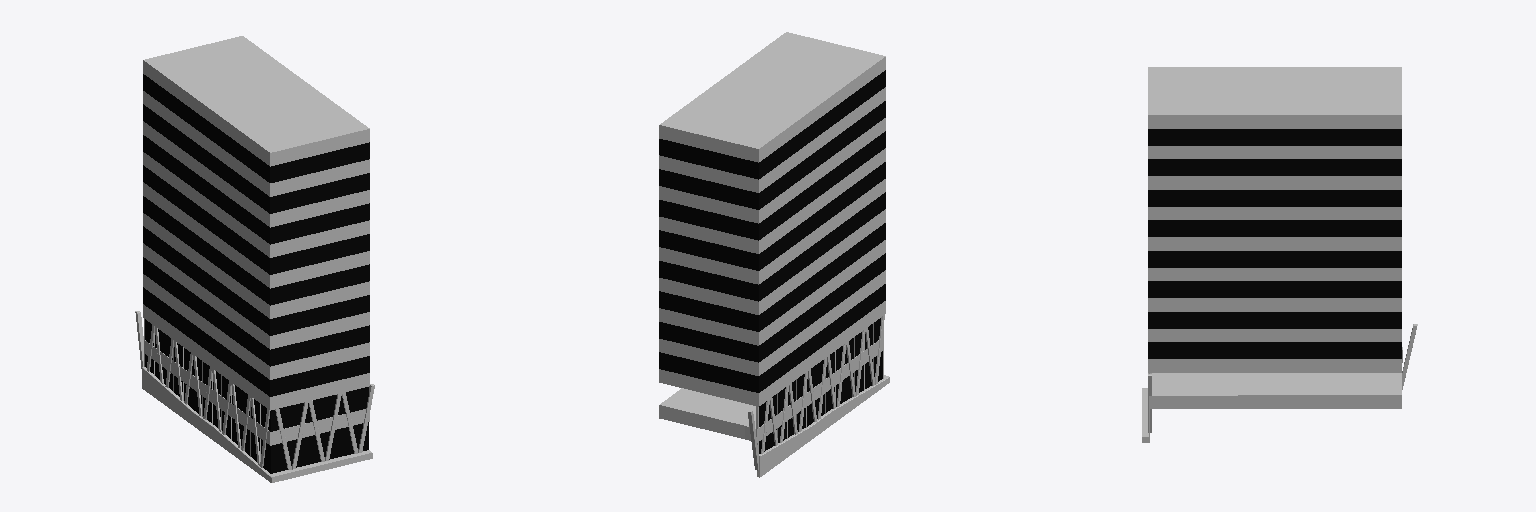
The model's file is building.obj.
3 views of the same model, side by side, from view 1: azimuth 30°, elevation 25°; view 2: azimuth 150°, elevation 25°; view 3: azimuth 270°, elevation 25° (orthographic).
Visible parts, largest first — view 1: Cube.030_Cube.028, Cube.031_Cube.029, Cube.013_Cube.012, Cube.007_Cube.030, Cube.018_Cube.025; view 2: Cube.030_Cube.028, Cube.031_Cube.029, Cube.013_Cube.012, Cube.007_Cube.030; view 3: Cube.030_Cube.028, Cube.031_Cube.029, Cube.013_Cube.012.
Boxes of the visible parts, box(x1,y1,x2,y2) form: Cube.030_Cube.028: box(143, 74, 369, 410); Cube.031_Cube.029: box(143, 36, 369, 166); Cube.013_Cube.012: box(142, 319, 372, 482); Cube.007_Cube.030: box(135, 311, 269, 467); Cube.018_Cube.025: box(275, 384, 374, 469); Cube.030_Cube.028: box(659, 70, 885, 406); Cube.031_Cube.029: box(659, 32, 885, 162); Cube.013_Cube.012: box(659, 318, 889, 477); Cube.007_Cube.030: box(748, 315, 884, 470); Cube.030_Cube.028: box(1148, 129, 1401, 372); Cube.031_Cube.029: box(1148, 67, 1401, 128); Cube.013_Cube.012: box(1142, 347, 1402, 442).
Bounding box in the file's own units: 16.41 × 48.4 × 36.78.